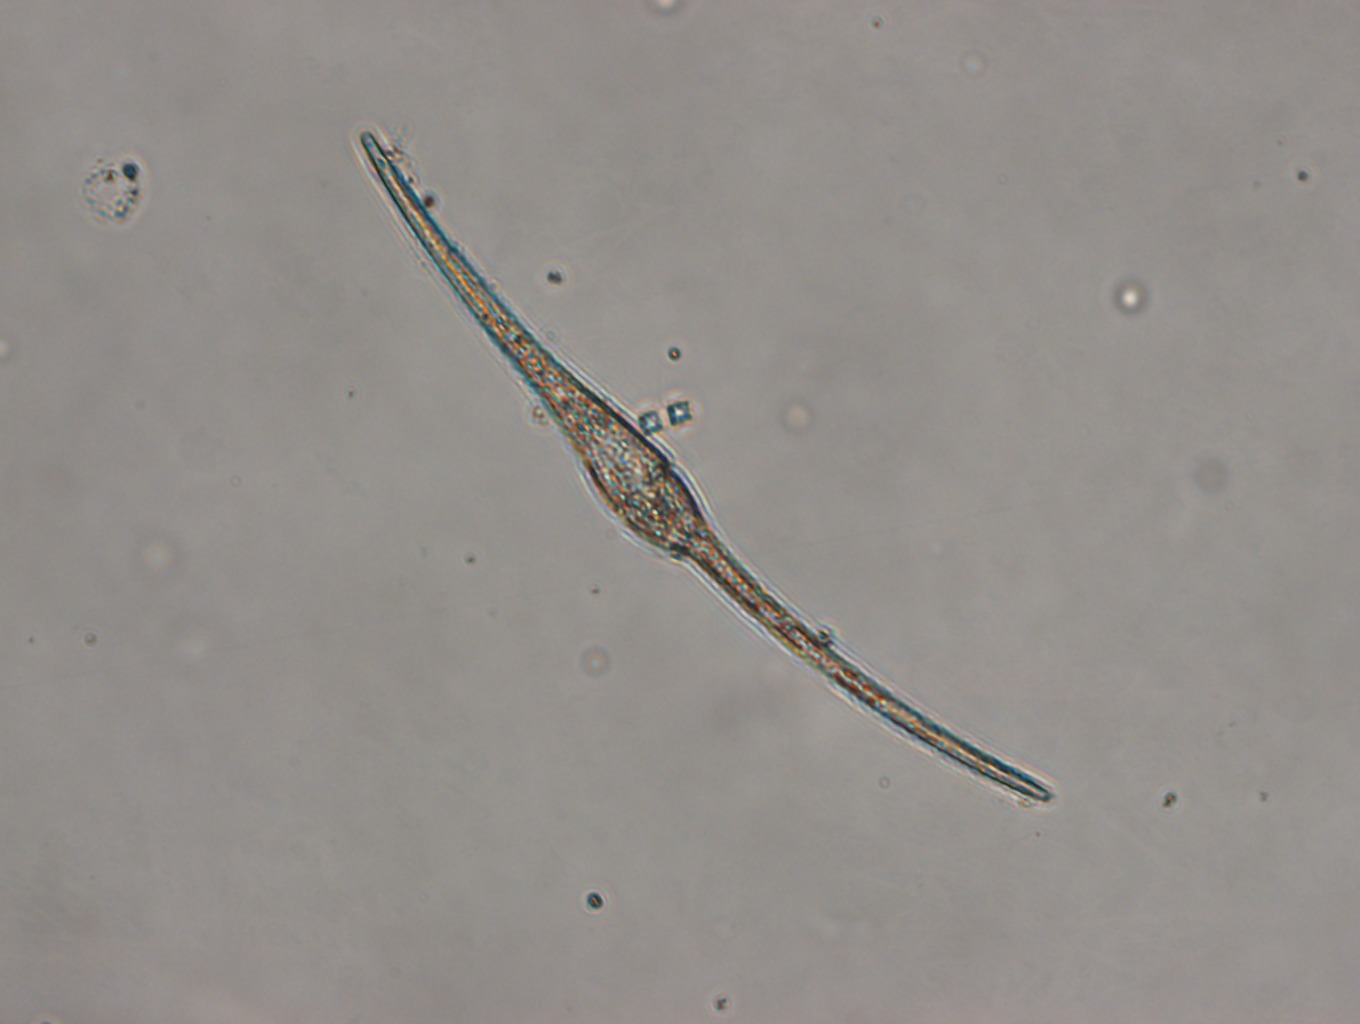ceratium fusus: (349, 118, 1055, 805)
